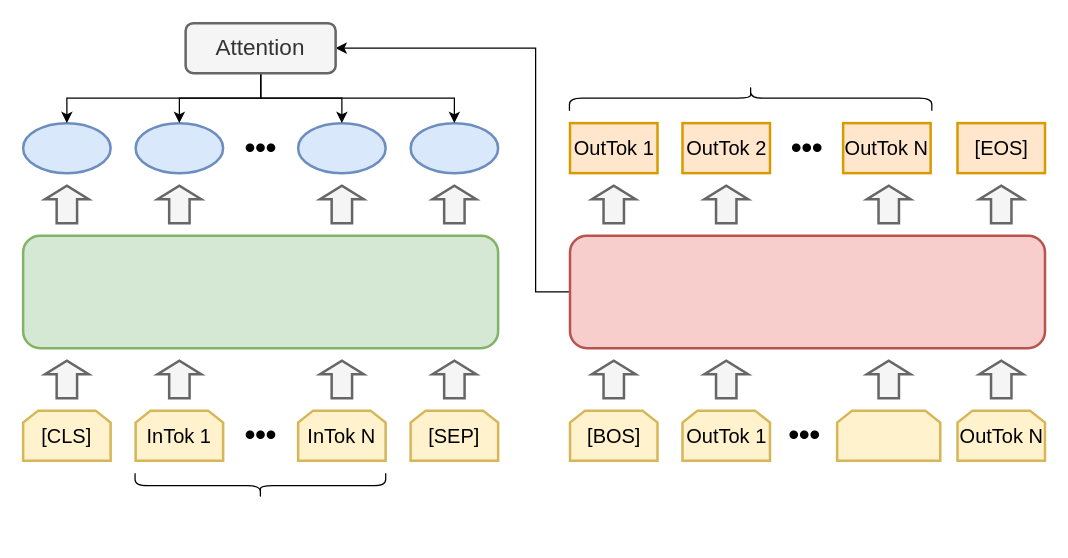
Image size: 1068x558. Some labels were removed from this diagram. The shapes that lost their labels are listed below. From the top down, each one's centre as x and y in pixels, then its label:
the point at 750,97: Abstractive Summary
the point at 260,291: BERT Encoder
the point at 807,291: Transformer Decoder
the point at 888,435: OutTok N-1
the point at 260,485: Text to summarize
